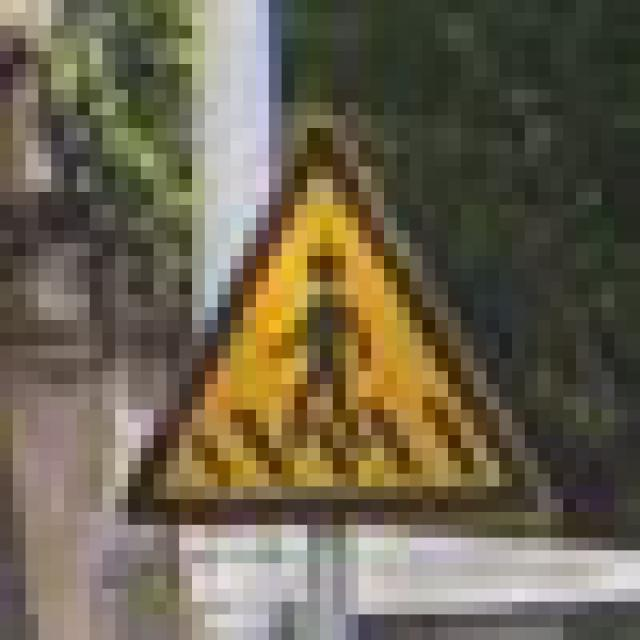pass_either_side: (90, 90, 563, 538)
